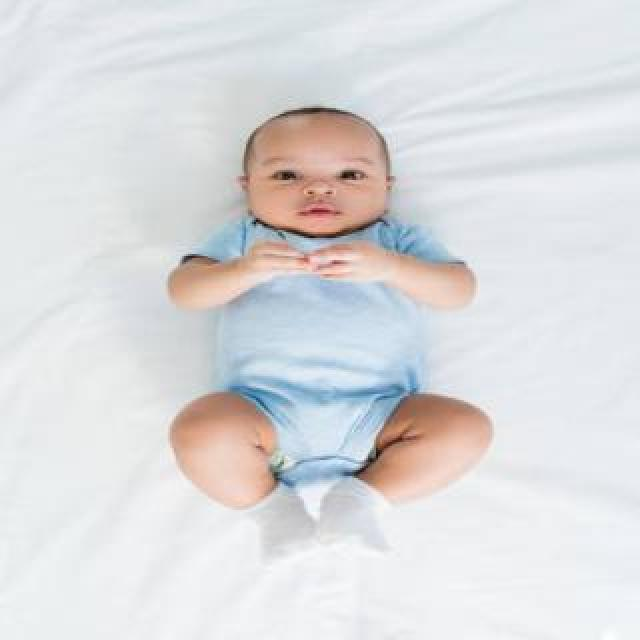baby: (164, 102, 500, 551)
